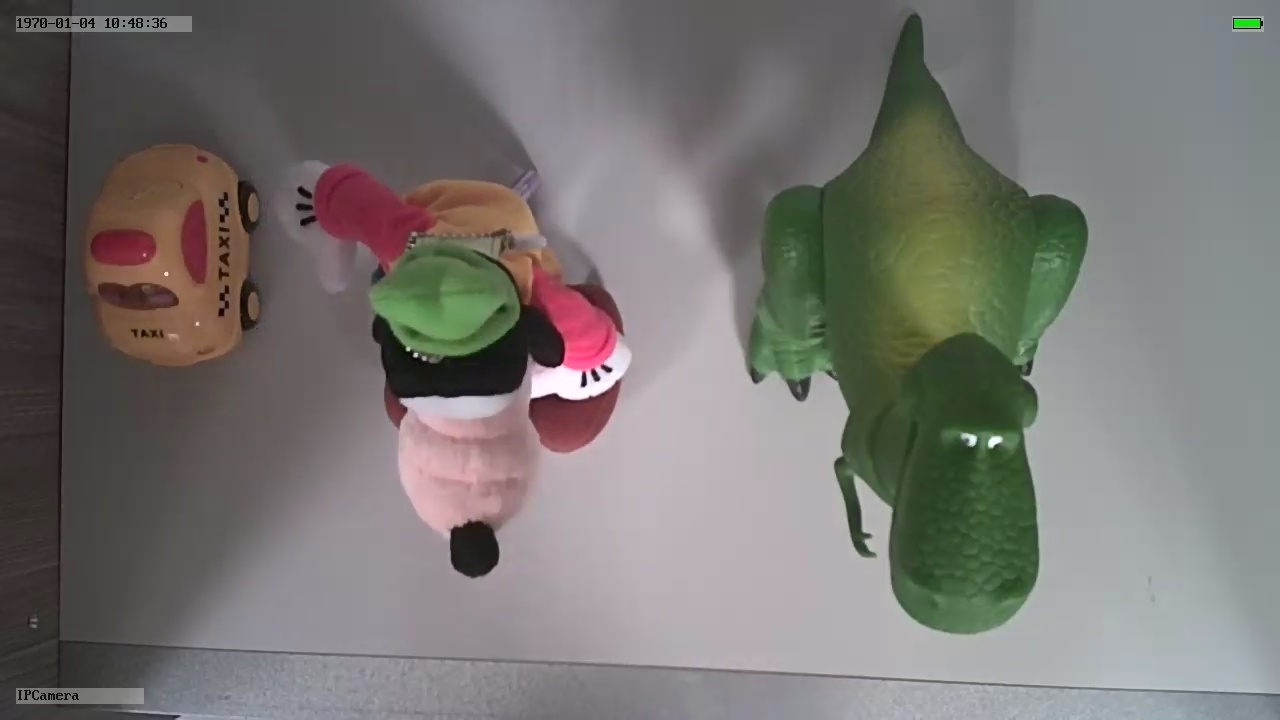car: (84, 134, 264, 366)
goofy: (264, 156, 633, 581)
rex: (746, 128, 1091, 637)
